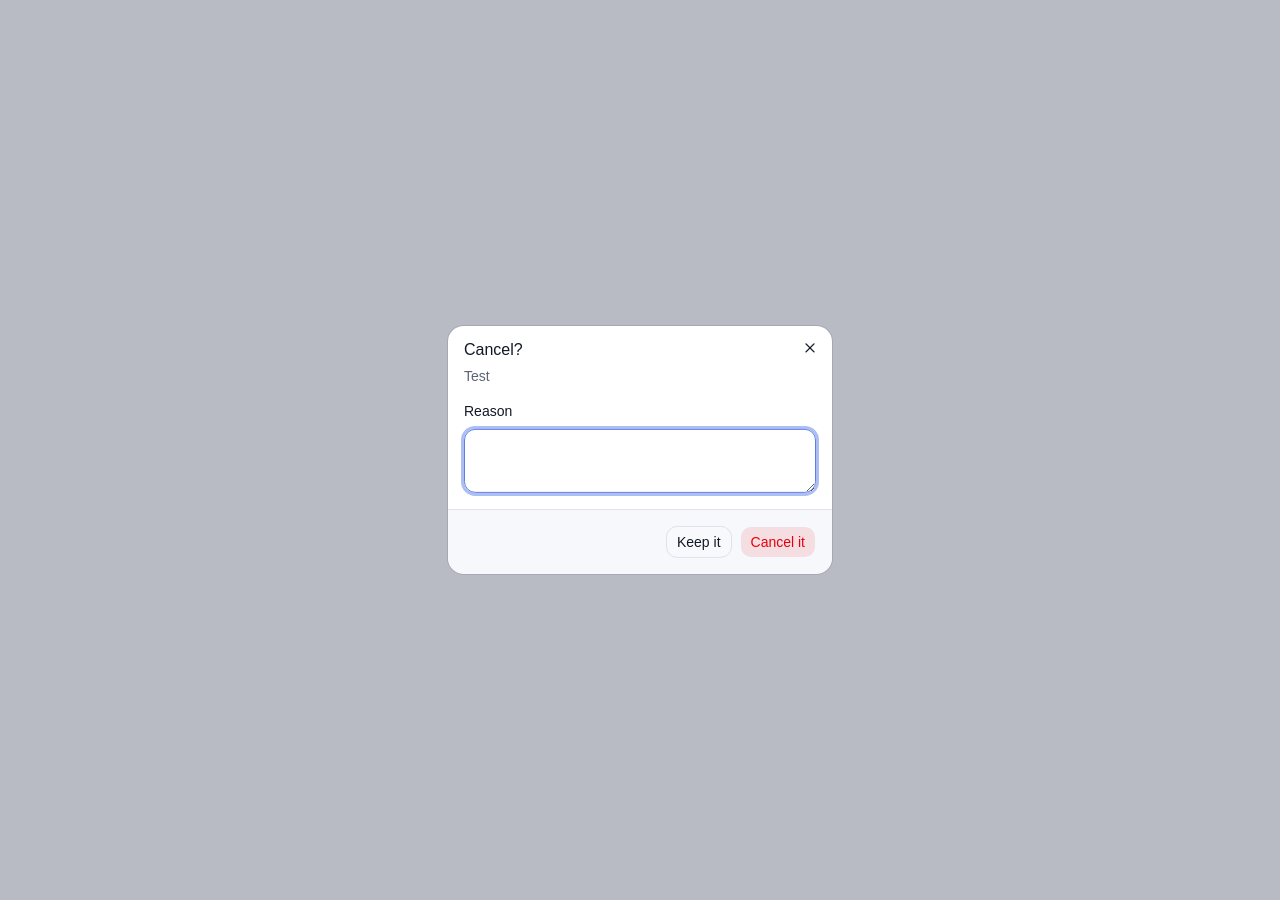
Test case: ReasonDialog › requires a reason
Click the button "Cancel it" at x=778, y=542, box 740,526 -> 816,558
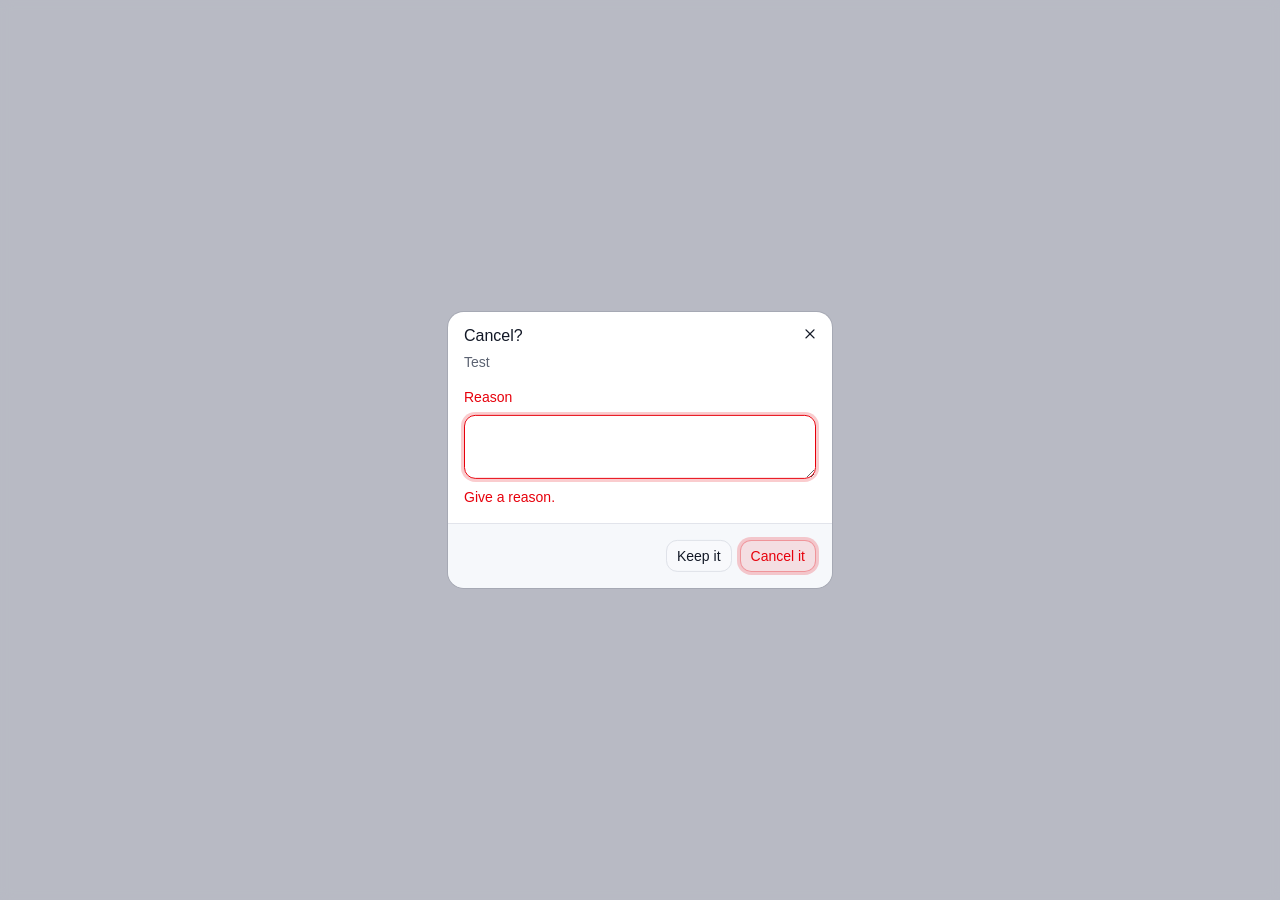
Expected: the text "Give a reason." is shown, 464,489 -> 555,505
